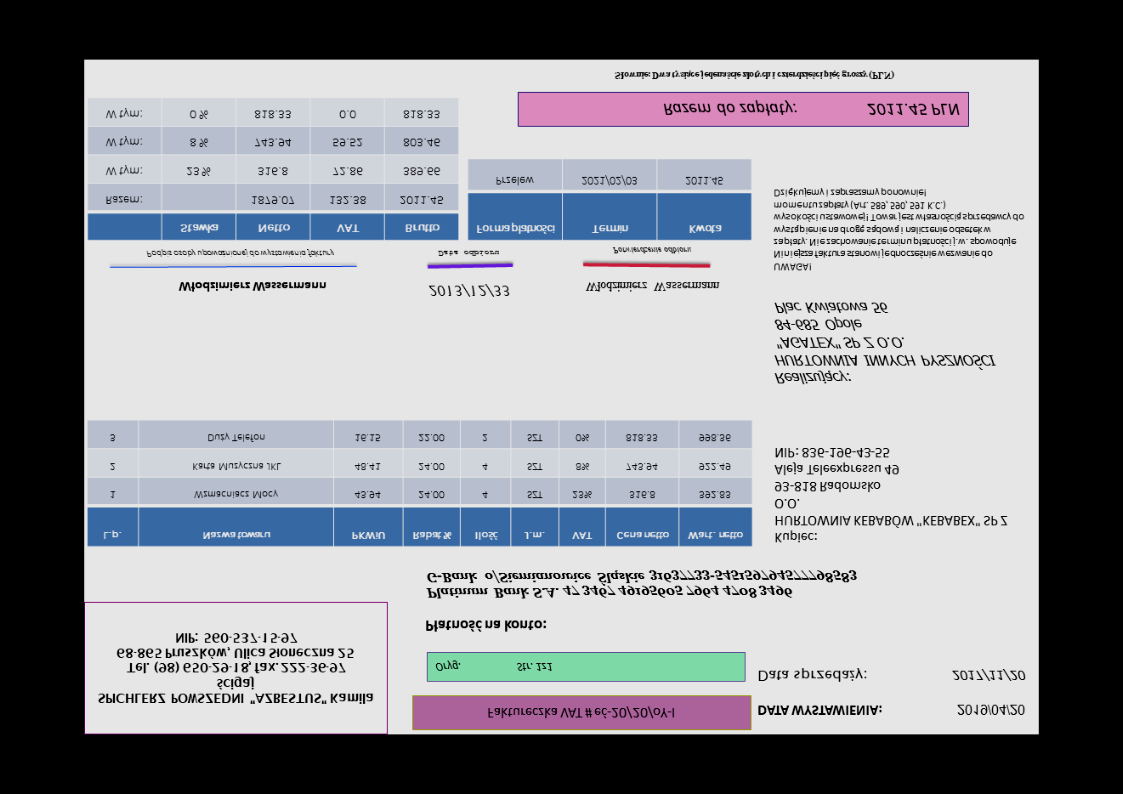Table: (85, 418, 755, 549), (86, 96, 461, 242), (466, 157, 755, 242)
TextBox: (772, 443, 1010, 546), (771, 186, 1029, 274), (95, 629, 377, 707), (771, 296, 998, 389), (423, 565, 862, 603), (659, 97, 962, 121), (611, 67, 898, 84), (483, 704, 677, 723), (175, 277, 330, 298), (143, 247, 337, 262), (757, 700, 885, 722), (423, 615, 548, 636), (581, 279, 723, 296), (434, 659, 555, 676), (757, 666, 870, 684), (425, 281, 512, 301), (949, 666, 1027, 685), (955, 702, 1029, 720), (610, 244, 694, 257), (433, 247, 503, 262)
